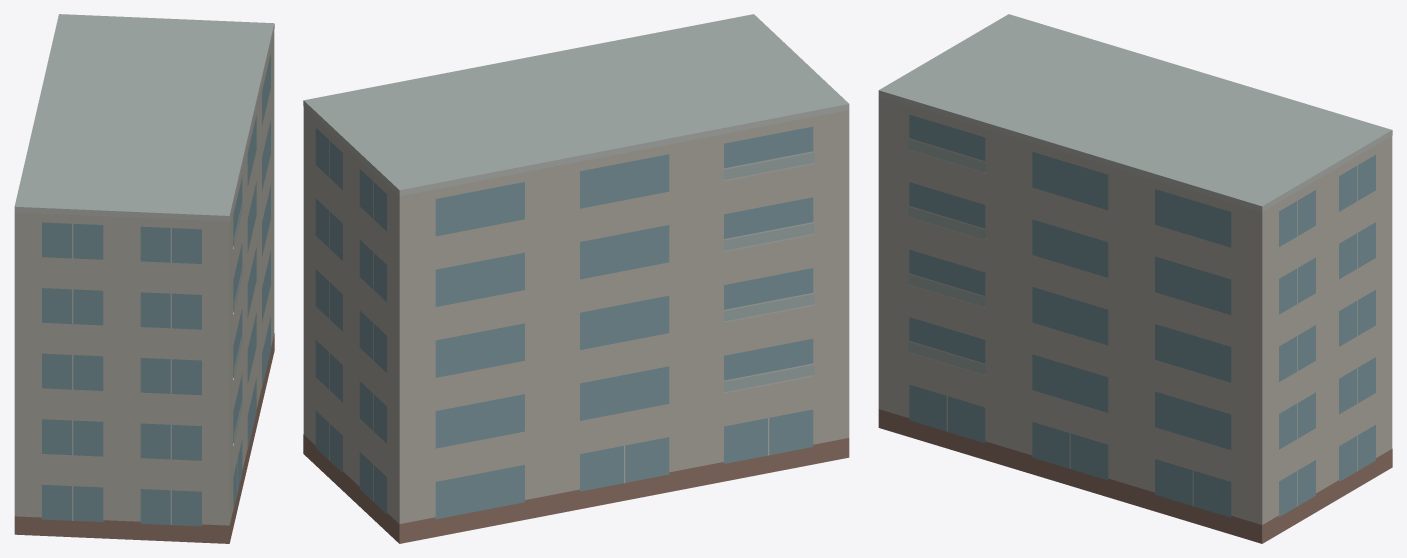
Rendered from survey-upis-32708105.glb.
3 views of the same model, side by side, from view 1: azimuth 30°, elevation 25°; view 2: azimuth 150°, elevation 25°; view 3: azimuth 270°, elevation 25° (orthographic). The views are drawn at different scales.
Visible parts, largest first — view 1: survey-upis-32708105.tmp; view 2: survey-upis-32708105.tmp; view 3: survey-upis-32708105.tmp.
Boxes of the visible parts, bbox=[...] form: survey-upis-32708105.tmp: bbox=[14, 14, 274, 543]; survey-upis-32708105.tmp: bbox=[303, 14, 849, 543]; survey-upis-32708105.tmp: bbox=[878, 14, 1392, 543].
Size of the model in its own units: 17.55 by 14.35 by 19.81.
